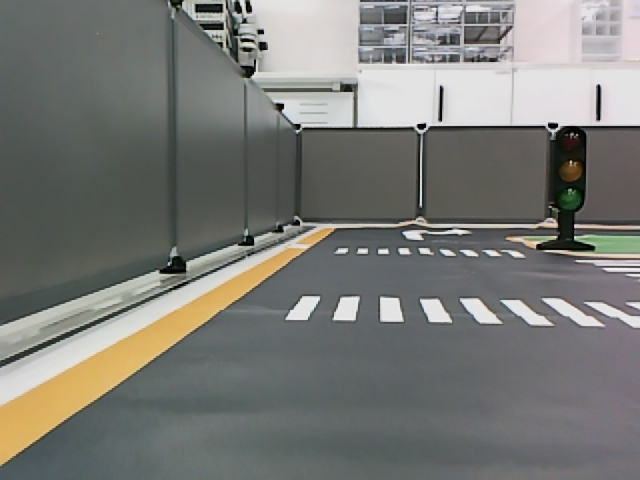crosswalk: (283, 290, 640, 337), (330, 243, 528, 261)
